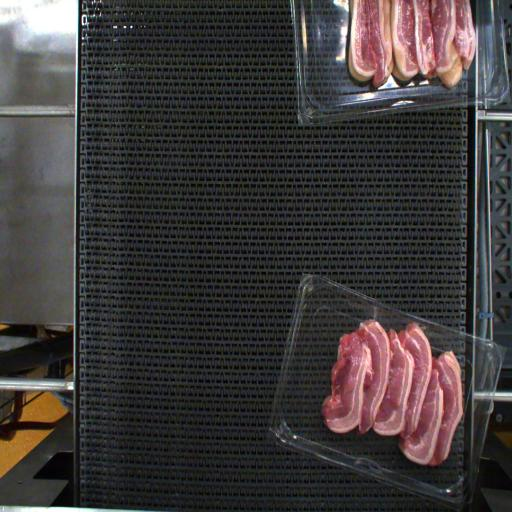packaging-error: (366, 297, 386, 323)
